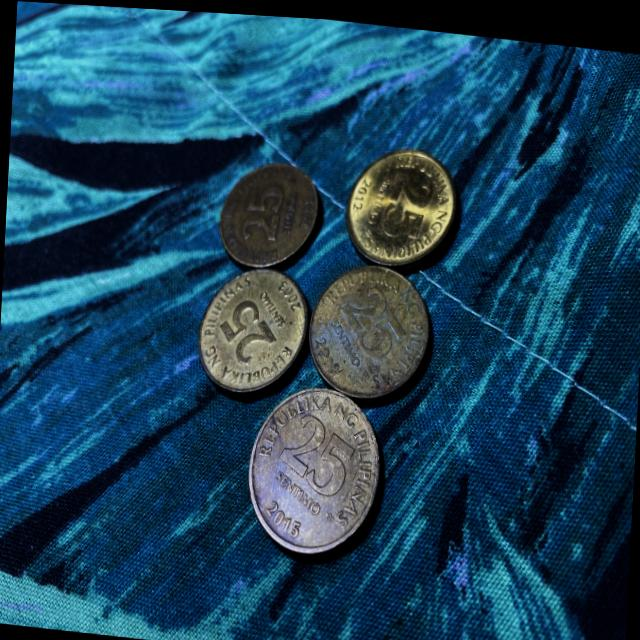25Cent_Old_Front: (276, 410, 352, 493), (340, 280, 402, 358), (379, 164, 429, 240), (218, 293, 272, 359), (238, 176, 286, 240)
